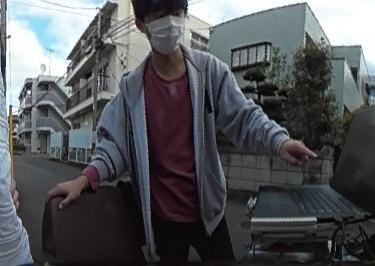person: (74, 0, 293, 266)
